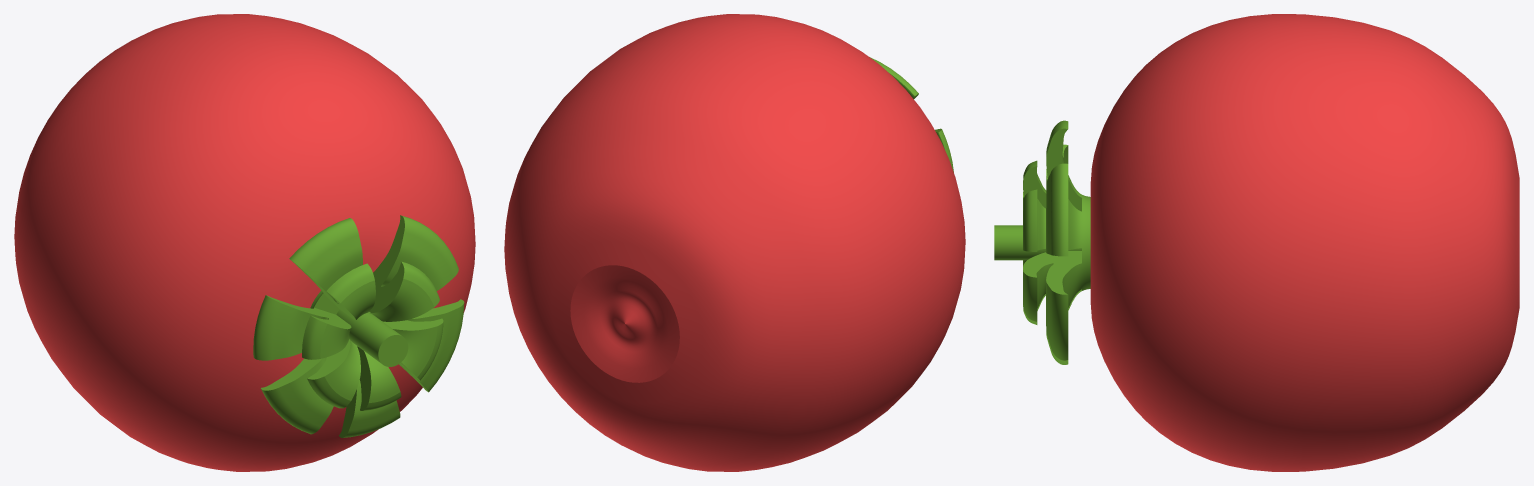
File: savos-tomato.glb
3 renders of one model, left to right at view 1: azimuth 30°, elevation 25°; view 2: azimuth 150°, elevation 25°; view 3: azimuth 270°, elevation 25°, orthographic.
Parts seen in each view (by area): view 1: Part 1; view 2: Part 1; view 3: Part 1.
Part boxes in pixels (box(x1,y1,x2,y2)): Part 1: box(14, 14, 475, 471); Part 1: box(504, 14, 965, 471); Part 1: box(994, 14, 1519, 471).
Bounding box in the file's own units: 0.0521 × 0.0521 × 0.0598.
